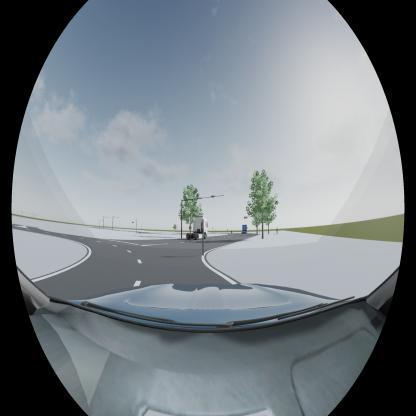Green Light: (244, 217, 249, 219)
Red Light: (194, 198, 198, 200), (211, 195, 214, 197)
